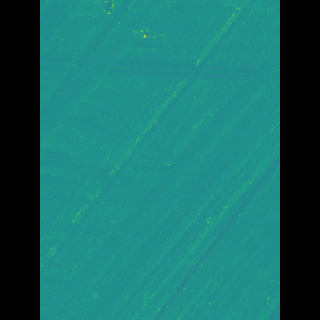Loch: (68, 0, 163, 153), (118, 58, 235, 87)
